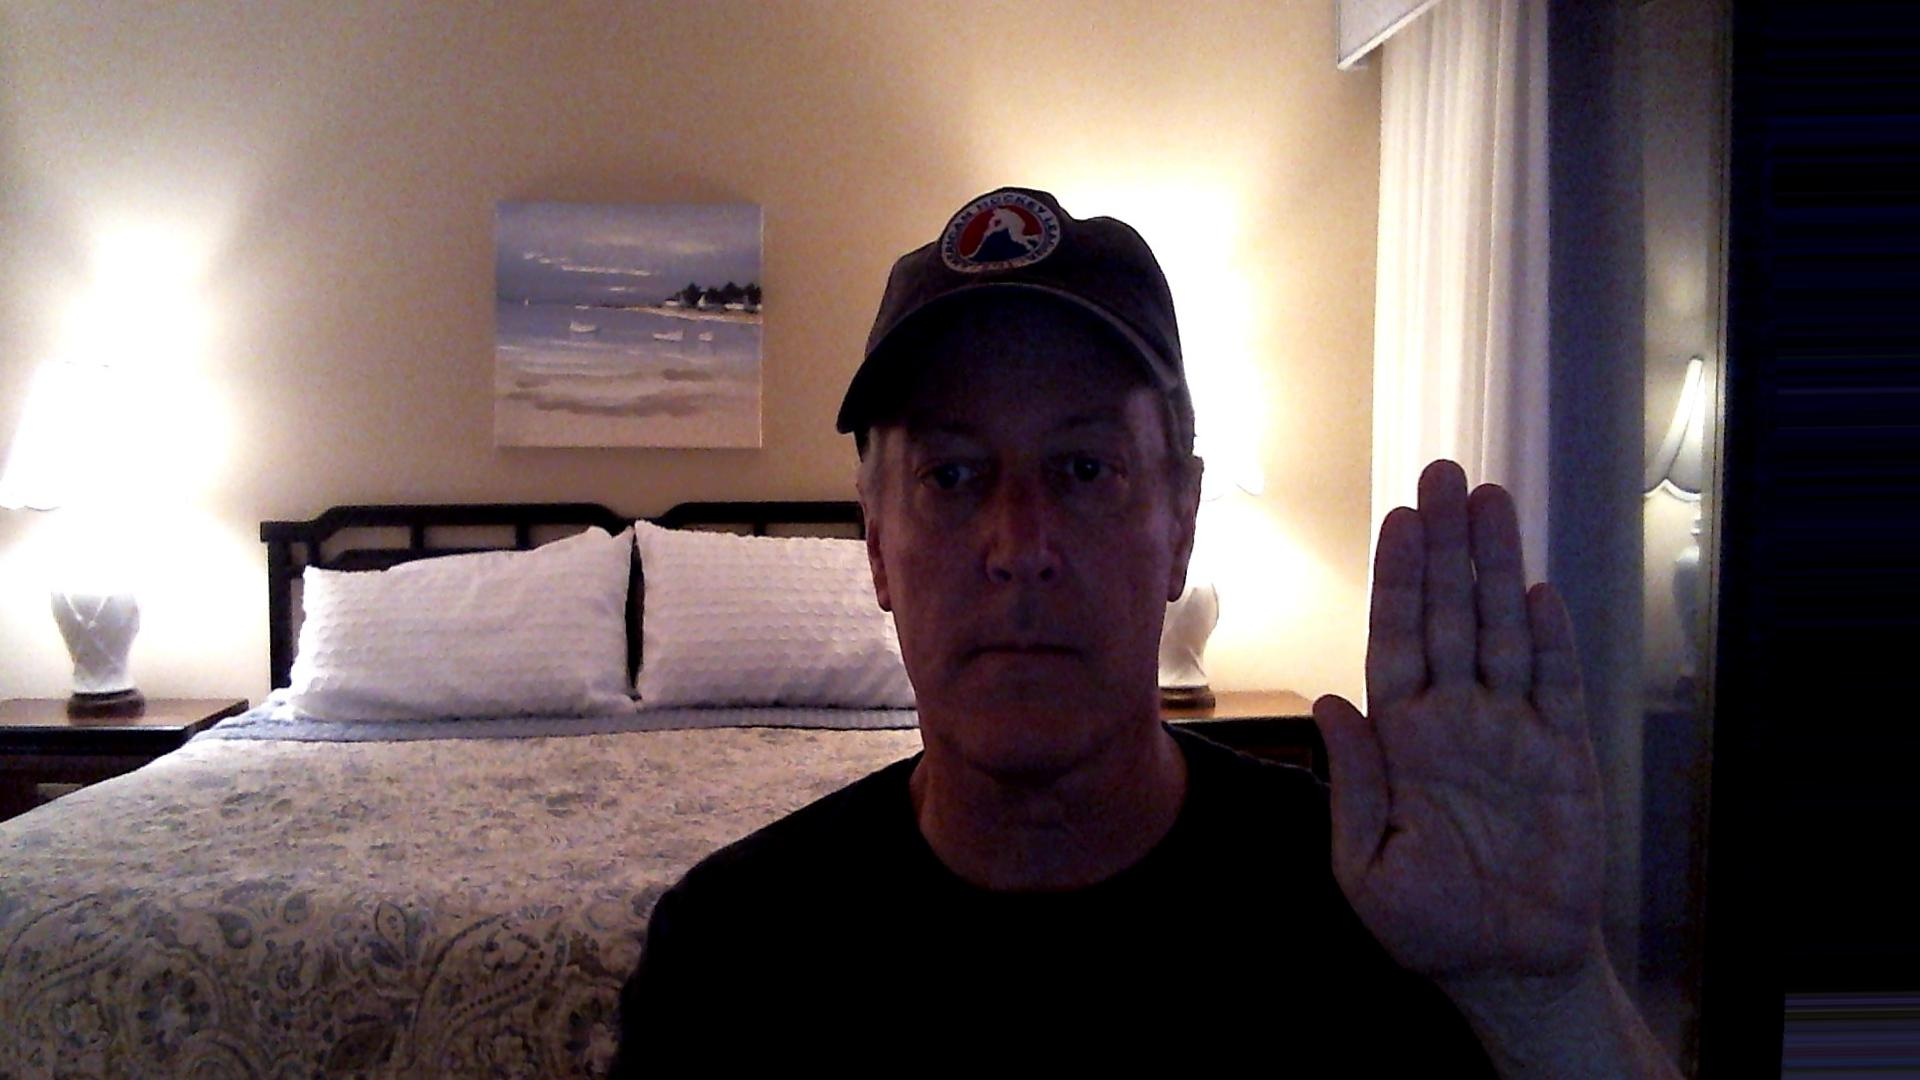Hello: (1298, 458, 1650, 990)
